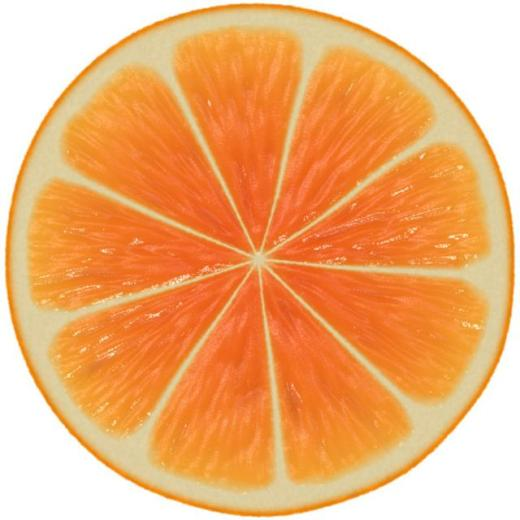Grape: (5, 2, 516, 518)
